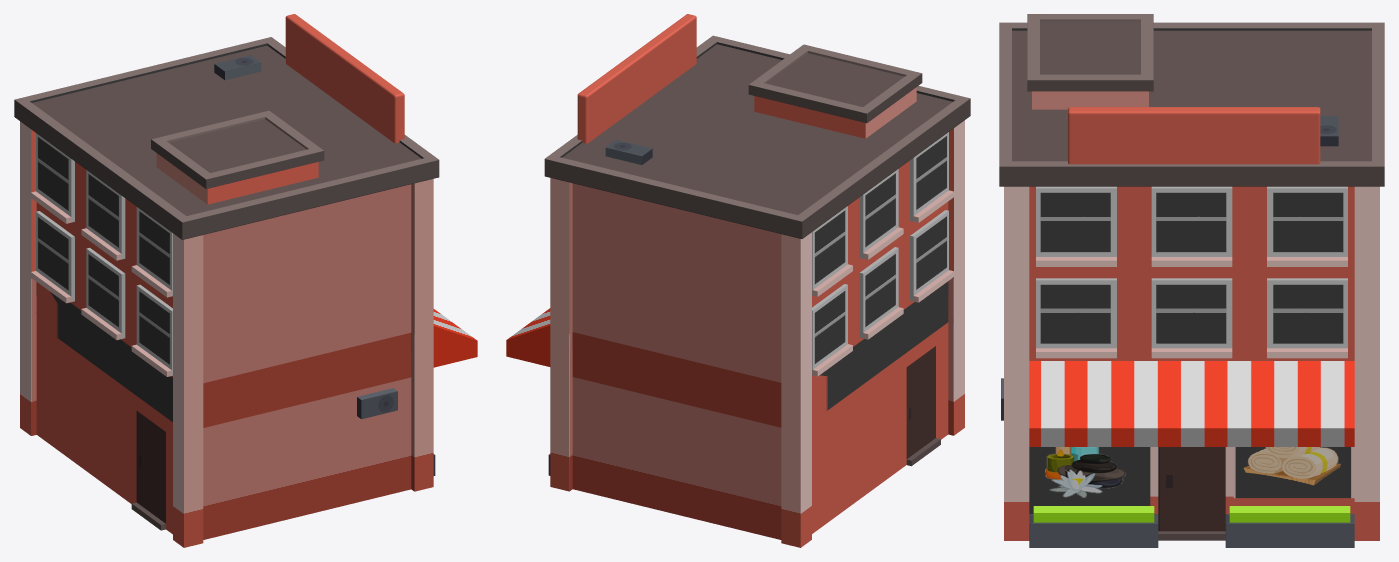
The model's file is spa.fbx.
3 views of the same model, side by side, from view 1: azimuth 30°, elevation 25°; view 2: azimuth 150°, elevation 25°; view 3: azimuth 270°, elevation 25° (orthographic). The views are drawn at different scales.
Visible parts, largest first — view 1: shop_classic_mesh1; view 2: shop_classic_mesh1; view 3: shop_classic_mesh1.
Part boxes in pixels (<box>): shop_classic_mesh1: <box>14,14,477,547</box>; shop_classic_mesh1: <box>506,14,970,547</box>; shop_classic_mesh1: <box>999,14,1384,547</box>.
Bounding box in the file's own units: 12.32 × 14.26 × 11.63.
